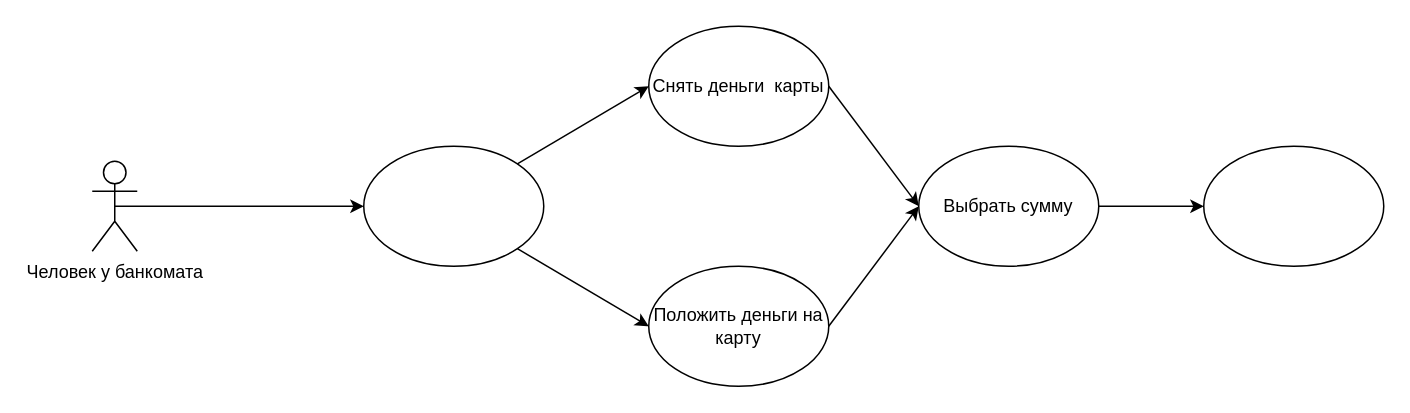
The diagram is 1410 pixels wide and 413 high, and some of its shapes have lost their labels. Each missing label, with the centre of its shape:
"Вставить карточку в банкомат" belongs at [453,205].
"Получить чек и карточку обратно" belongs at [1293,205].
